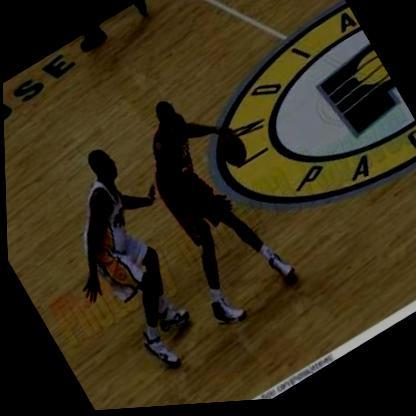basketball: (201, 121, 257, 181)
